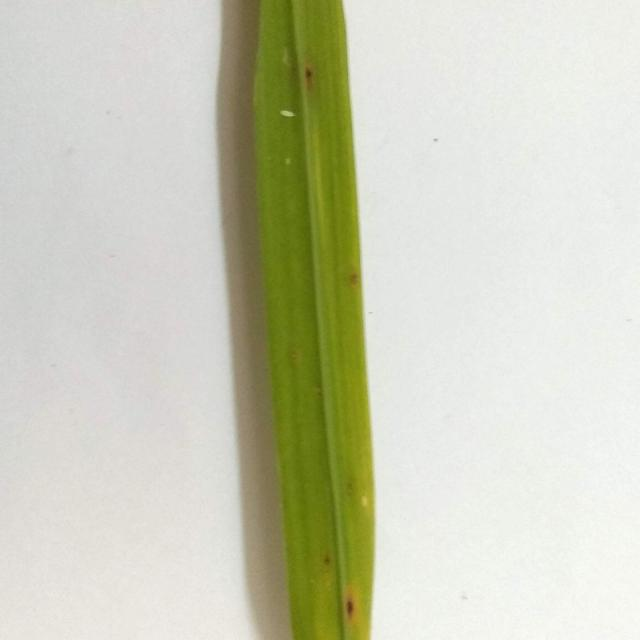Brown spot: (314, 538, 342, 576), (342, 582, 360, 628), (298, 58, 316, 97)
